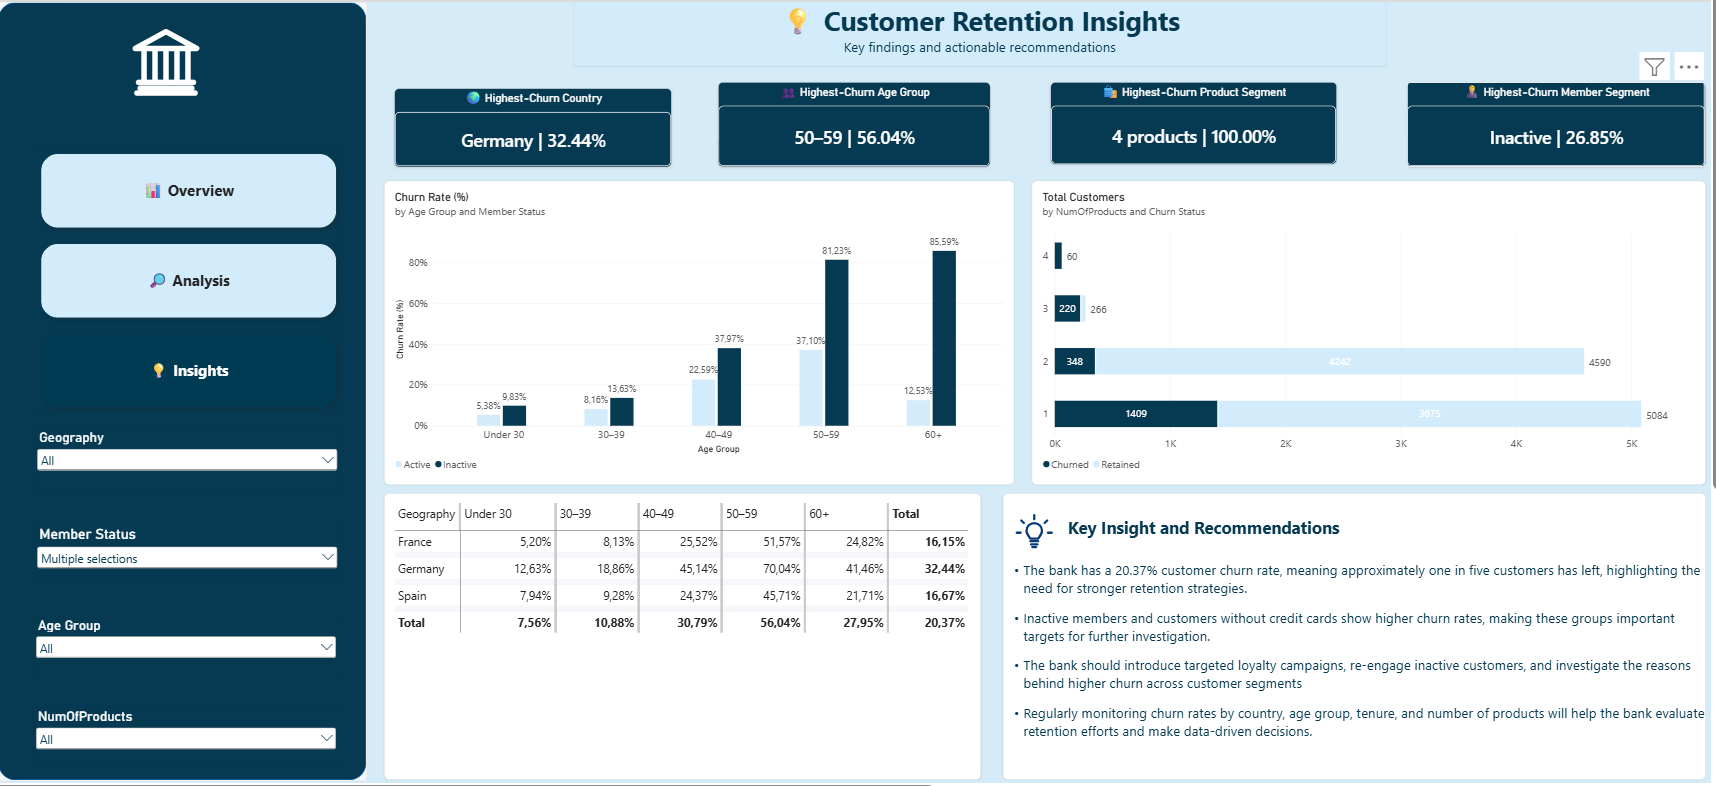

This screenshot's page, from the dashboard's own definition file:
{"tool":"powerbi","page":{"name":"💡 Insights","canvas":[5000,2000],"ordinal":2},"visuals":[{"type":"clusteredColumnChart","fields":{"Category":["churn_analysis customers.Age Group"],"Series":["churn_analysis customers.Member Status"],"Y":["churn_analysis customers.Churn Rate (%)"]},"box":[618,286,1008,486],"z":0},{"type":"shape","box":[0,0,590,1246],"z":1000,"group":"g1"},{"type":"slicer","fields":{"Values":["churn_analysis customers.Age Group"]},"box":[58,834,490,94],"z":1000},{"type":"pivotTable","fields":{"Columns":["churn_analysis customers.Age Group"],"Rows":["churn_analysis customers.Geography"],"Values":["churn_analysis customers.Churn Rate (%)"]},"box":[618,786,954,458],"z":2000},{"type":"slicer","fields":{"Values":["churn_analysis customers.NumOfProducts"]},"box":[56,1130,490,86],"z":2000,"group":"g1"},{"type":"barChart","fields":{"Category":["churn_analysis customers.NumOfProducts"],"Series":["churn_analysis customers.Churn Status"],"Y":["churn_analysis customers.Total Customers"]},"box":[1654,286,1078,486],"z":3000},{"type":"slicer","fields":{"Values":["churn_analysis customers.Geography"]},"box":[58,684,490,102],"z":3000,"group":"g1"},{"type":"cardVisual","title":"🌍 Highest-Churn Country","fields":{"Data":["churn_analysis customers.Highest-Churn Country"]},"box":[634,138,444,126],"z":4000},{"type":"slicer","fields":{"Values":["churn_analysis customers.Member Status"]},"box":[58,838,490,90],"z":4000,"group":"g1"},{"type":"cardVisual","title":"👥 Highest-Churn Age Group","fields":{"Data":["churn_analysis customers.Highest-Churn Age Group"]},"box":[1152,128,436,136],"z":5000},{"type":"pageNavigator","box":[60,234,490,424],"z":5000,"group":"g1"},{"type":"cardVisual","title":"🛍️ Highest-Churn Product Segment","fields":{"Data":["churn_analysis customers.Highest-Churn Product Segment"]},"box":[1684,128,458,132],"z":6000},{"type":"cardVisual","title":"🧑💼 Highest-Churn Member Segment","fields":{"Data":["churn_analysis customers.Highest-Churn Member Segment"]},"box":[2254,128,478,136],"z":7000},{"type":"textbox","box":[922,0,1298,102],"z":8000},{"type":"textbox","box":[1608,786,1124,458],"z":9000},{"type":"slicer","fields":{"Values":["churn_analysis customers.Age Group"]},"box":[56,984,490,96],"z":9001,"group":"g1"},{"type":"group","id":"g1","title":"Group 1","box":[0,0,590,1246],"z":10000},{"type":"image","box":[1608,816,100,66],"z":11000},{"type":"image","box":[190,32,158,124],"z":12000}]}

Visuals, with their boxes on the page's 5000x2000 design canvas (x1, y1, x2, y2). These are canvas units, not pixel positions in the 1716x786 screenshot, which may show the page scaled, cropped or inside an application window:
clusteredColumnChart - churn_analysis customers.Age Group x churn_analysis customers.Member Status: BBox(618, 286, 1626, 772)
shape: BBox(0, 0, 590, 1246)
slicer - churn_analysis customers.Age Group: BBox(58, 834, 548, 928)
pivotTable - churn_analysis customers.Age Group x churn_analysis customers.Geography: BBox(618, 786, 1572, 1244)
slicer - churn_analysis customers.NumOfProducts: BBox(56, 1130, 546, 1216)
barChart - churn_analysis customers.NumOfProducts x churn_analysis customers.Churn Status: BBox(1654, 286, 2732, 772)
slicer - churn_analysis customers.Geography: BBox(58, 684, 548, 786)
"🌍 Highest-Churn Country" cardVisual: BBox(634, 138, 1078, 264)
slicer - churn_analysis customers.Member Status: BBox(58, 838, 548, 928)
"👥 Highest-Churn Age Group" cardVisual: BBox(1152, 128, 1588, 264)
pageNavigator: BBox(60, 234, 550, 658)
"🛍️ Highest-Churn Product Segment" cardVisual: BBox(1684, 128, 2142, 260)
"🧑💼 Highest-Churn Member Segment" cardVisual: BBox(2254, 128, 2732, 264)
textbox: BBox(922, 0, 2220, 102)
textbox: BBox(1608, 786, 2732, 1244)
slicer - churn_analysis customers.Age Group: BBox(56, 984, 546, 1080)
"Group 1" group: BBox(0, 0, 590, 1246)
image: BBox(1608, 816, 1708, 882)
image: BBox(190, 32, 348, 156)
